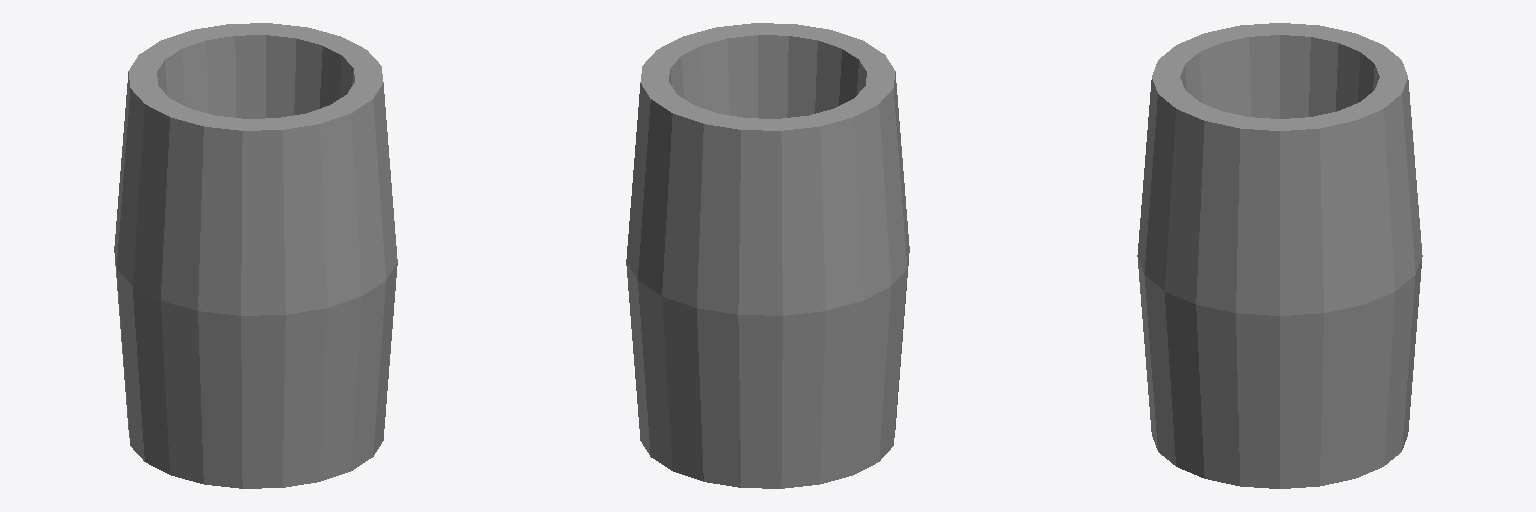
File: canhao.obj
3 views of the same model, side by side, from view 1: azimuth 30°, elevation 25°; view 2: azimuth 150°, elevation 25°; view 3: azimuth 270°, elevation 25° (orthographic).
Parts seen in each view (by area): view 1: Torus; view 2: Torus; view 3: Torus.
Boxes of the visible parts, x1,y1,x2,y2 form: Torus: [114, 23, 397, 488]; Torus: [626, 23, 909, 488]; Torus: [1137, 23, 1422, 488].
Bounding box in the file's own units: 2.5 × 3.46 × 2.5.